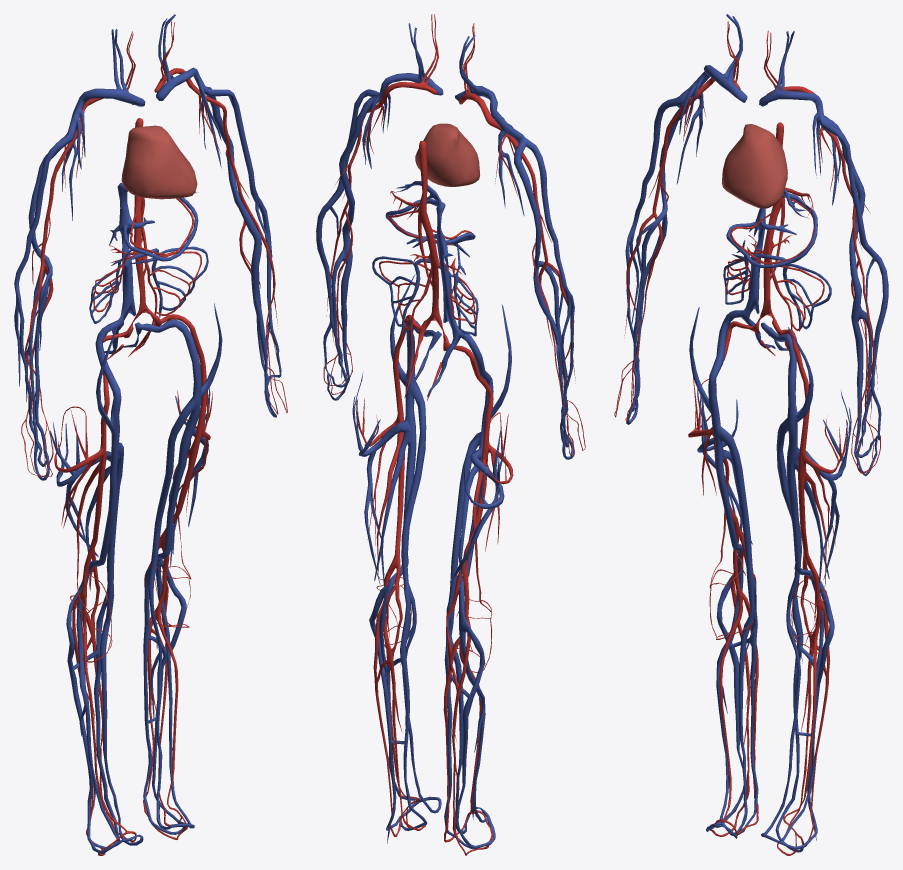
The model's file is pediatric_child_10y_female.cardiovascular.LOD2.glb.
The picture shows the model from 3 angles, left to right: view 1: azimuth 30°, elevation 25°; view 2: azimuth 150°, elevation 25°; view 3: azimuth 330°, elevation 25°; orthographic projection.
Visible parts, largest first — view 1: PEDIATRIC.CHILD_10Y.FEMALE.CARDIOVASCULAR.BLOOD_IN_LARGE_VEI, PEDIATRIC.CHILD_10Y.FEMALE.CARDIOVASCULAR.BLOOD_IN_LARGE_ART, PEDIATRIC.CHILD_10Y.FEMALE.CARDIOVASCULAR.HEART_WALL; view 2: PEDIATRIC.CHILD_10Y.FEMALE.CARDIOVASCULAR.BLOOD_IN_LARGE_VEI, PEDIATRIC.CHILD_10Y.FEMALE.CARDIOVASCULAR.BLOOD_IN_LARGE_ART, PEDIATRIC.CHILD_10Y.FEMALE.CARDIOVASCULAR.HEART_WALL; view 3: PEDIATRIC.CHILD_10Y.FEMALE.CARDIOVASCULAR.BLOOD_IN_LARGE_VEI, PEDIATRIC.CHILD_10Y.FEMALE.CARDIOVASCULAR.BLOOD_IN_LARGE_ART, PEDIATRIC.CHILD_10Y.FEMALE.CARDIOVASCULAR.HEART_WALL.
Boxes of the visible parts, bbox=[...] form: PEDIATRIC.CHILD_10Y.FEMALE.CARDIOVASCULAR.BLOOD_IN_LARGE_VEI: bbox=[14, 14, 281, 853]; PEDIATRIC.CHILD_10Y.FEMALE.CARDIOVASCULAR.BLOOD_IN_LARGE_ART: bbox=[21, 21, 287, 855]; PEDIATRIC.CHILD_10Y.FEMALE.CARDIOVASCULAR.HEART_WALL: bbox=[121, 125, 197, 199]; PEDIATRIC.CHILD_10Y.FEMALE.CARDIOVASCULAR.BLOOD_IN_LARGE_VEI: bbox=[316, 23, 574, 848]; PEDIATRIC.CHILD_10Y.FEMALE.CARDIOVASCULAR.BLOOD_IN_LARGE_ART: bbox=[323, 14, 585, 855]; PEDIATRIC.CHILD_10Y.FEMALE.CARDIOVASCULAR.HEART_WALL: bbox=[415, 123, 479, 186]; PEDIATRIC.CHILD_10Y.FEMALE.CARDIOVASCULAR.BLOOD_IN_LARGE_VEI: bbox=[625, 14, 888, 852]; PEDIATRIC.CHILD_10Y.FEMALE.CARDIOVASCULAR.BLOOD_IN_LARGE_ART: bbox=[614, 21, 880, 855]; PEDIATRIC.CHILD_10Y.FEMALE.CARDIOVASCULAR.HEART_WALL: bbox=[722, 124, 787, 208].
Bounding box in the file's own units: 0.4062 × 1.24 × 0.1455.
